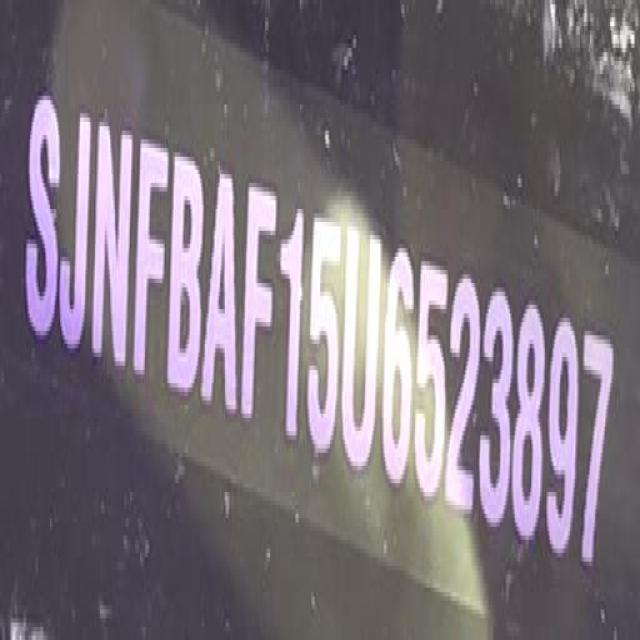1: (284, 201, 307, 452)
2: (448, 270, 482, 522)
3: (480, 284, 512, 536)
5: (308, 208, 342, 464), (416, 261, 447, 501)
6: (380, 248, 414, 508)
7: (582, 327, 618, 580)
8: (513, 301, 545, 546)
9: (548, 313, 580, 562)
A: (204, 156, 240, 423)
B: (168, 153, 205, 397)
F: (242, 174, 277, 431), (134, 132, 168, 384)
J: (61, 101, 94, 362)
N: (90, 101, 138, 381)
S: (25, 83, 59, 362)
U: (341, 209, 379, 485)
